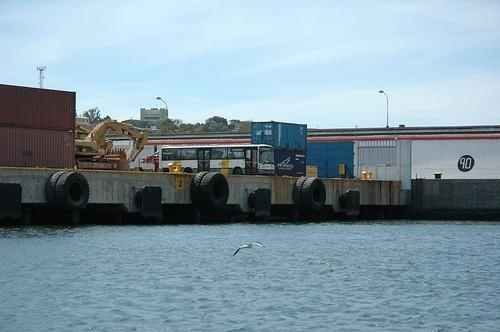bus: (157, 143, 275, 178)
